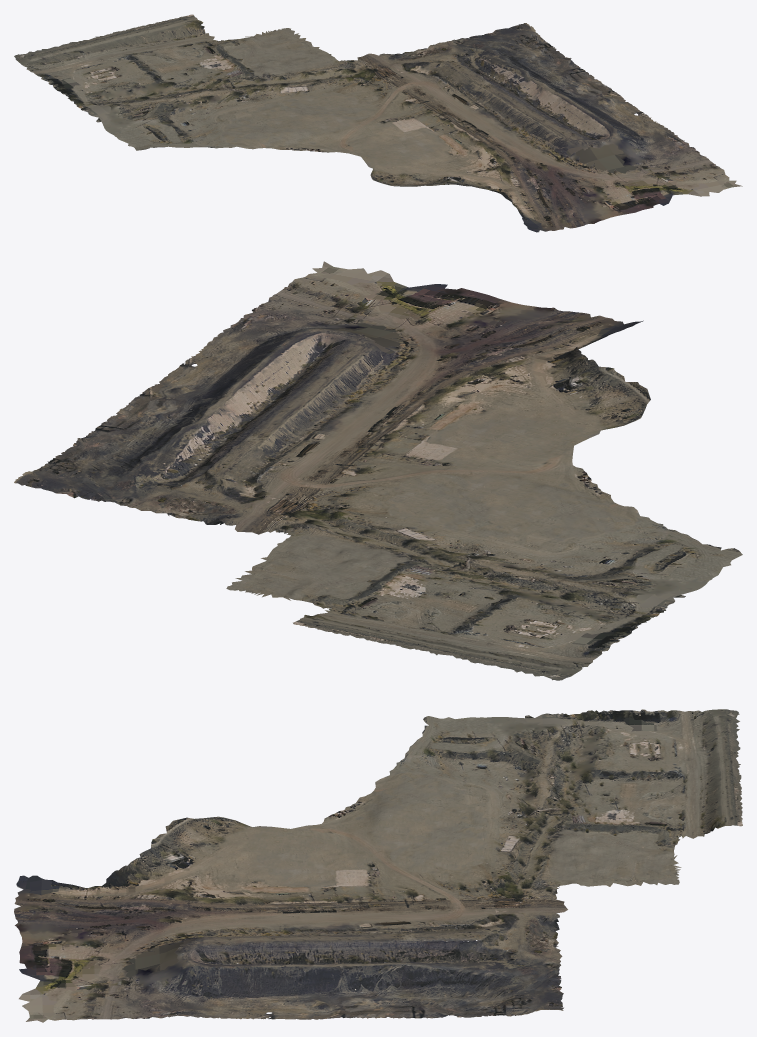
Rendered from MOD_domainSurroundings_lowerGround.fbx.
3 views of the same model, one above another, from view 1: azimuth 30°, elevation 25°; view 2: azimuth 150°, elevation 25°; view 3: azimuth 270°, elevation 25° (orthographic). The views are drawn at different scales.
Visible parts, largest first — view 1: MOD_domainSurroundings_lowerGround; view 2: MOD_domainSurroundings_lowerGround; view 3: MOD_domainSurroundings_lowerGround.
Boxes of the visible parts, left/top/right/bottom form: MOD_domainSurroundings_lowerGround: left=14, top=14, right=742, bottom=232; MOD_domainSurroundings_lowerGround: left=14, top=261, right=742, bottom=680; MOD_domainSurroundings_lowerGround: left=14, top=709, right=742, bottom=1022.
Bounding box in the file's own units: 47792 × 3196 × 53553.
